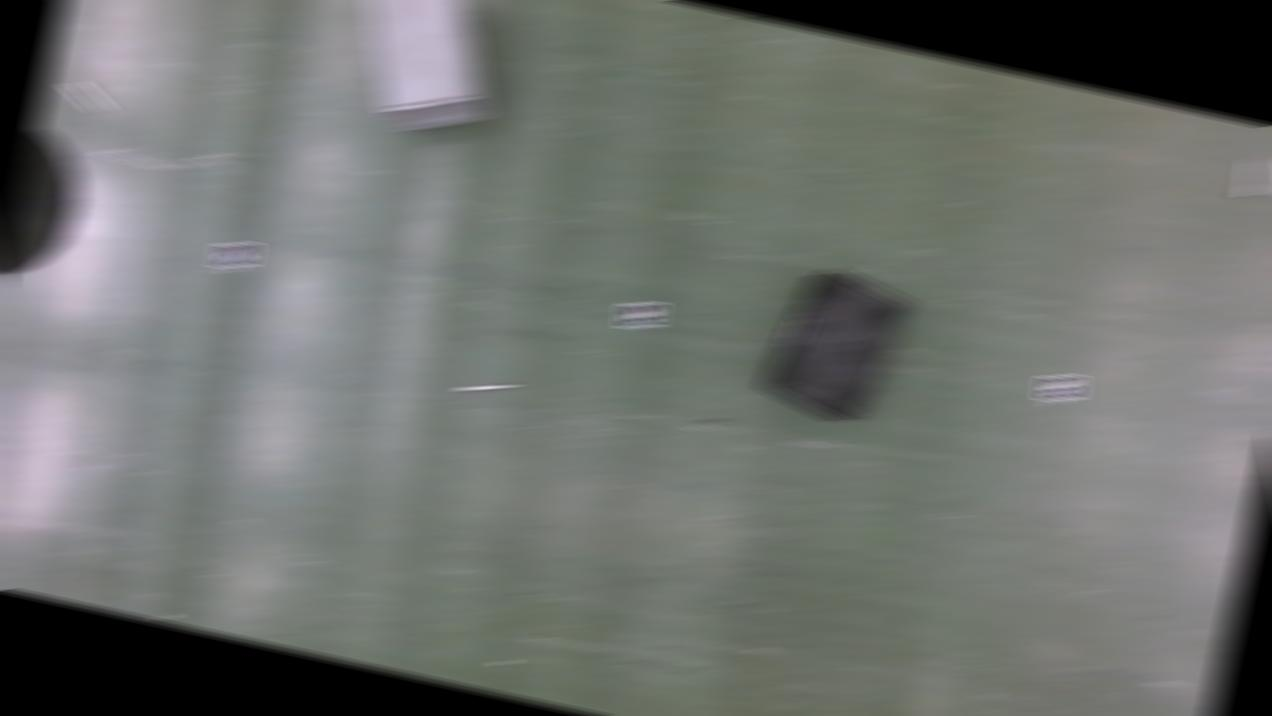probes: (60, 81, 113, 115), (460, 378, 511, 400), (1236, 159, 1263, 198)
rako: (754, 262, 916, 432), (334, 0, 518, 149)
